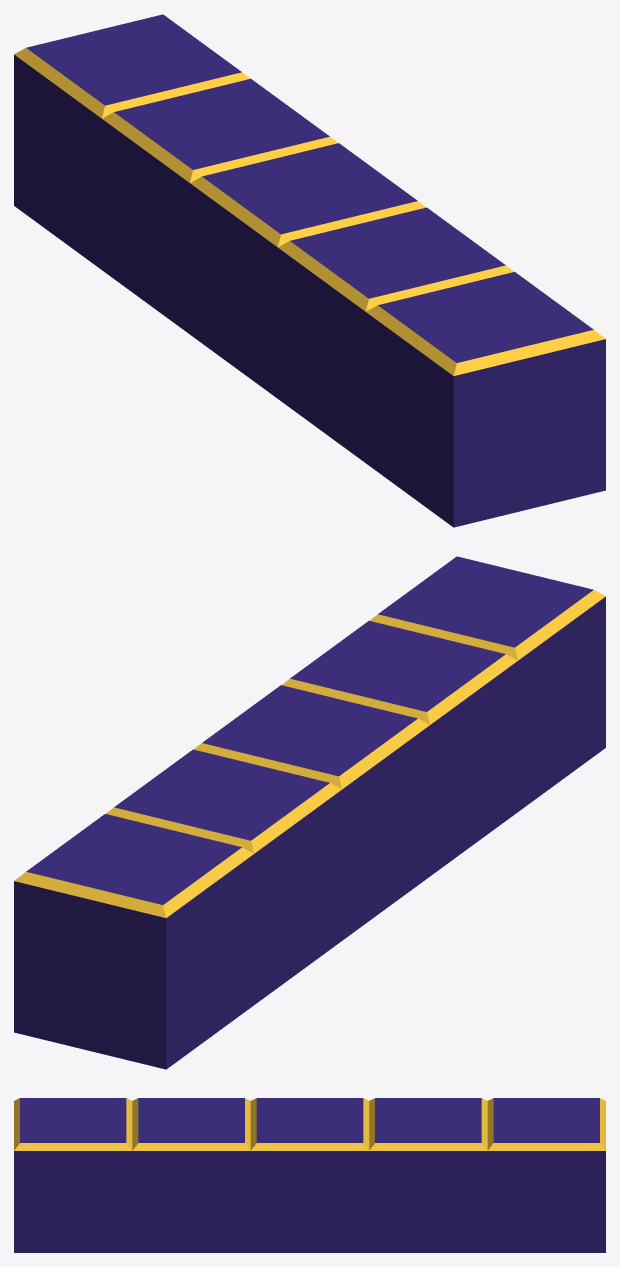
The model's file is sm_narrowPlatform_1.fbx.
3 renders of one model, top to bottom at view 1: azimuth 30°, elevation 25°; view 2: azimuth 150°, elevation 25°; view 3: azimuth 270°, elevation 25°, orthographic. The views are drawn at different scales.
Visible parts, largest first — view 1: pCube1, pCube3, pCube39, pCube40, pCube7; view 2: pCube40, pCube39, pCube3, pCube1, pCube7; view 3: pCube7, pCube1, pCube40, pCube3, pCube39.
Part boxes in pixels (left/top/right/bottom): pCube1: left=365, top=272, right=605, bottom=527; pCube3: left=277, top=207, right=513, bottom=462; pCube39: left=102, top=78, right=338, bottom=334; pCube40: left=14, top=14, right=250, bottom=269; pCube7: left=190, top=143, right=425, bottom=398; pCube40: left=14, top=814, right=254, bottom=1069; pCube39: left=106, top=749, right=342, bottom=1004; pCube3: left=281, top=620, right=517, bottom=876; pCube1: left=369, top=556, right=605, bottom=811; pCube7: left=194, top=685, right=429, bottom=940; pCube7: left=250, top=1098, right=369, bottom=1252; pCube1: left=14, top=1098, right=132, bottom=1252; pCube40: left=487, top=1098, right=605, bottom=1252; pCube3: left=132, top=1098, right=250, bottom=1252; pCube39: left=369, top=1098, right=487, bottom=1252.
Bounding box in the file's own units: 1 × 1 × 5.
